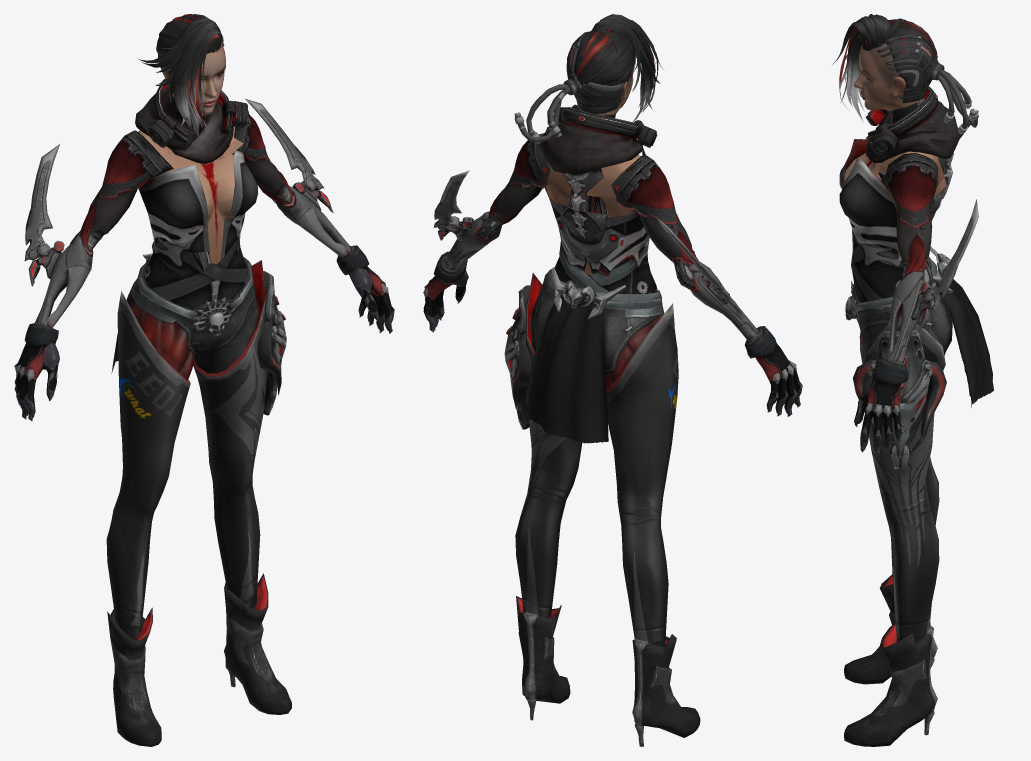
Rendered from Feamle_War2_Death.obj.
3 renders of one model, left to right at view 1: azimuth 30°, elevation 25°; view 2: azimuth 150°, elevation 25°; view 3: azimuth 270°, elevation 25°, orthographic.
Parts seen in each view (by area): view 1: female_top_cos_death2_female_lobby_bottom_cos_death2.001, female_bottom_cos_death2_female_lobby_bottom_cos_death2.002, female_shoes_cos_death2_female_lobby_bottom_cos_death2.007, female_Hair_cos_death2_female_lobby_bottom_cos_death2.003, female_Head_cos_death2_female_lobby_bottom_cos_death2.006; view 2: female_bottom_cos_death2_female_lobby_bottom_cos_death2.002, female_top_cos_death2_female_lobby_bottom_cos_death2.001, female_Hair_cos_death2_female_lobby_bottom_cos_death2.003, female_shoes_cos_death2_female_lobby_bottom_cos_death2.007; view 3: female_top_cos_death2_female_lobby_bottom_cos_death2.001, female_bottom_cos_death2_female_lobby_bottom_cos_death2.002, female_shoes_cos_death2_female_lobby_bottom_cos_death2.007, female_Hair_cos_death2_female_lobby_bottom_cos_death2.003, female_Head_cos_death2_female_lobby_bottom_cos_death2.006.
Part boxes in pixels (x1,y1,x2,y2): female_top_cos_death2_female_lobby_bottom_cos_death2.001: [14, 79, 394, 421]; female_bottom_cos_death2_female_lobby_bottom_cos_death2.002: [106, 253, 286, 639]; female_shoes_cos_death2_female_lobby_bottom_cos_death2.007: [107, 573, 291, 746]; female_Hair_cos_death2_female_lobby_bottom_cos_death2.003: [138, 14, 224, 138]; female_Head_cos_death2_female_lobby_bottom_cos_death2.006: [161, 42, 225, 115]; female_bottom_cos_death2_female_lobby_bottom_cos_death2.002: [504, 267, 678, 647]; female_top_cos_death2_female_lobby_bottom_cos_death2.001: [423, 104, 802, 416]; female_Hair_cos_death2_female_lobby_bottom_cos_death2.003: [514, 14, 663, 143]; female_shoes_cos_death2_female_lobby_bottom_cos_death2.007: [516, 596, 700, 746]; female_top_cos_death2_female_lobby_bottom_cos_death2.001: [839, 86, 978, 455]; female_bottom_cos_death2_female_lobby_bottom_cos_death2.002: [845, 246, 993, 642]; female_shoes_cos_death2_female_lobby_bottom_cos_death2.007: [844, 574, 937, 746]; female_Hair_cos_death2_female_lobby_bottom_cos_death2.003: [832, 14, 978, 133]; female_Head_cos_death2_female_lobby_bottom_cos_death2.006: [853, 43, 923, 110].
Bounding box in the file's own units: 2.74 × 4.94 × 1.2.
8 materials, 8 textured.
